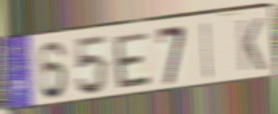5: (72, 33, 110, 97)
6: (37, 39, 68, 102)
7: (156, 24, 186, 87)
E: (112, 30, 153, 91)
I: (201, 20, 213, 82)
K: (235, 16, 267, 74)
